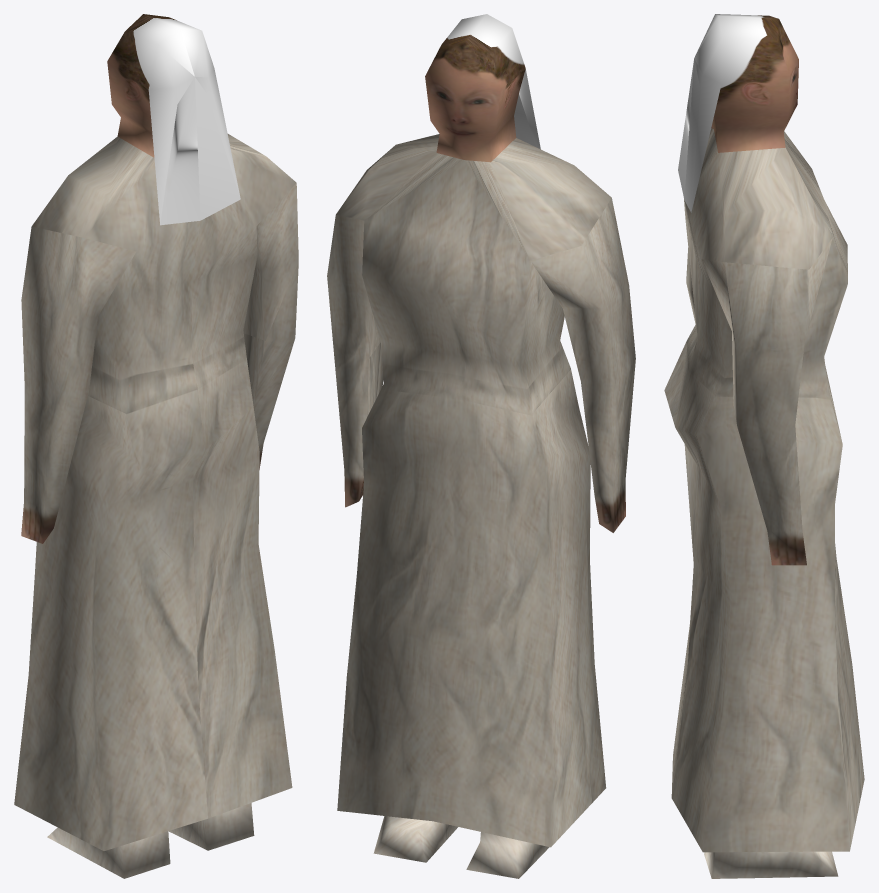
Rendered from lady1_8.fbx.
3 views of the same model, side by side, from view 1: azimuth 30°, elevation 25°; view 2: azimuth 150°, elevation 25°; view 3: azimuth 270°, elevation 25° (orthographic). The views are drawn at different scales.
Visible parts, largest first — view 1: lady1_8; view 2: lady1_8; view 3: lady1_8.
Part boxes in pixels (<box>): lady1_8: <box>14,14,298,878</box>; lady1_8: <box>327,14,635,878</box>; lady1_8: <box>664,14,864,878</box>.
Bounding box in the file's own units: 12.4 × 36.09 × 7.86.
